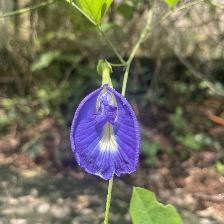shankupushpam: (70, 80, 145, 183)
